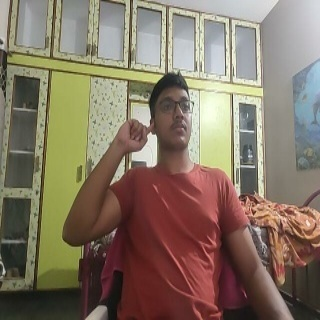Deaf: (115, 118, 154, 154)
Face: (148, 68, 193, 155)
